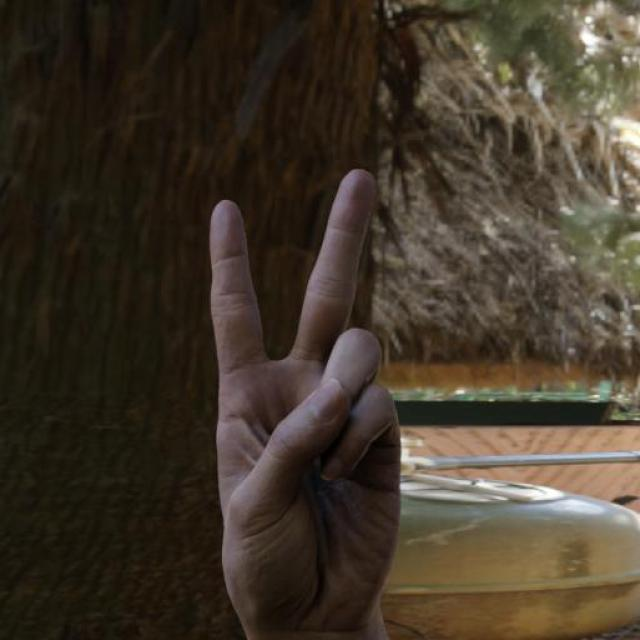V: (200, 155, 421, 631)
